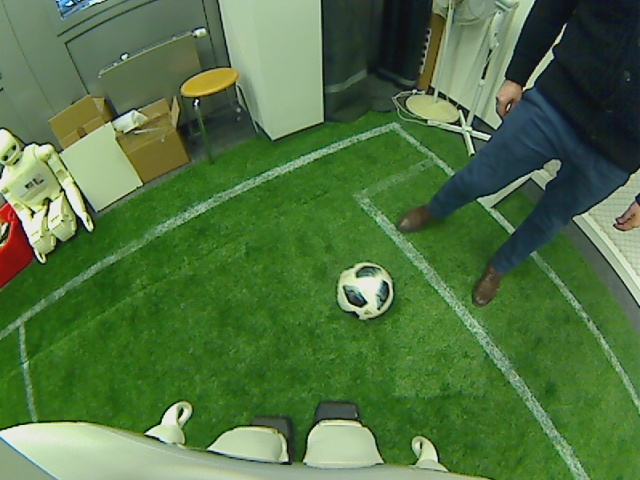ball: (334, 261, 394, 322)
